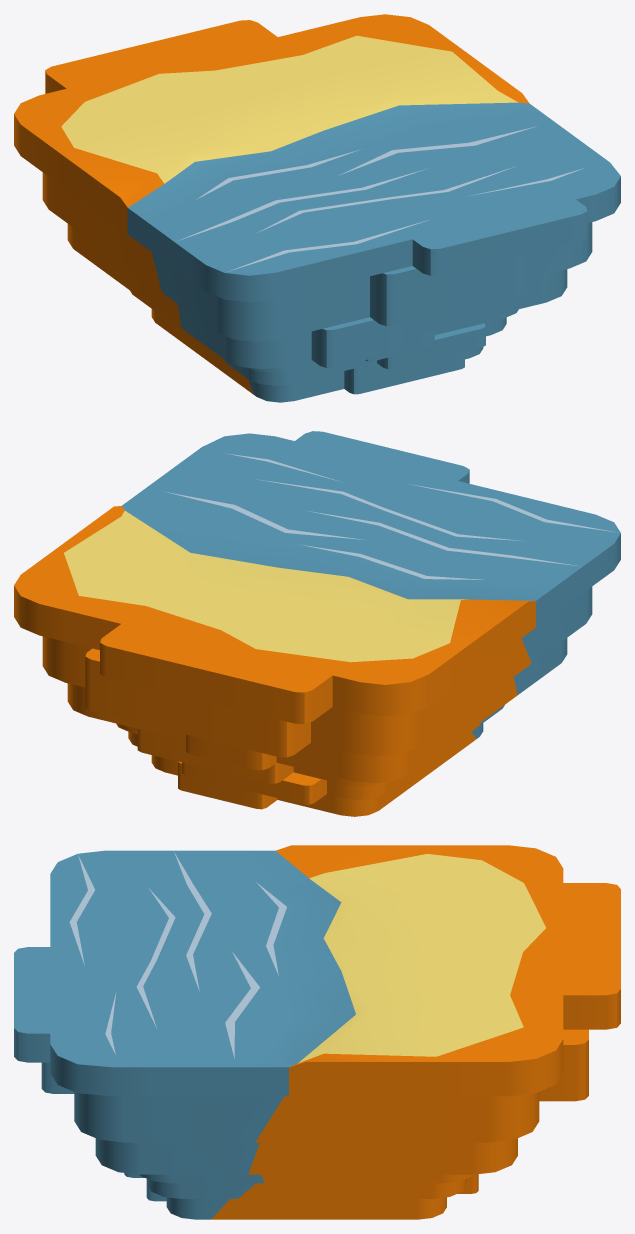
The model's file is Isl_11_Base.fbx.
3 views of the same model, one above another, from view 1: azimuth 30°, elevation 25°; view 2: azimuth 150°, elevation 25°; view 3: azimuth 270°, elevation 25° (orthographic). The views are drawn at different scales.
Visible parts, largest first — view 1: Isl_11_Base; view 2: Isl_11_Base; view 3: Isl_11_Base.
Boxes of the visible parts, x1=… form: Isl_11_Base: x1=14, y1=14, x2=620, y2=402; Isl_11_Base: x1=14, y1=431, x2=620, y2=816; Isl_11_Base: x1=14, y1=845, x2=620, y2=1219.
Size of the model in its own units: 2000 by 2366 by 889.
Materials: 1 (1 with a texture image).
